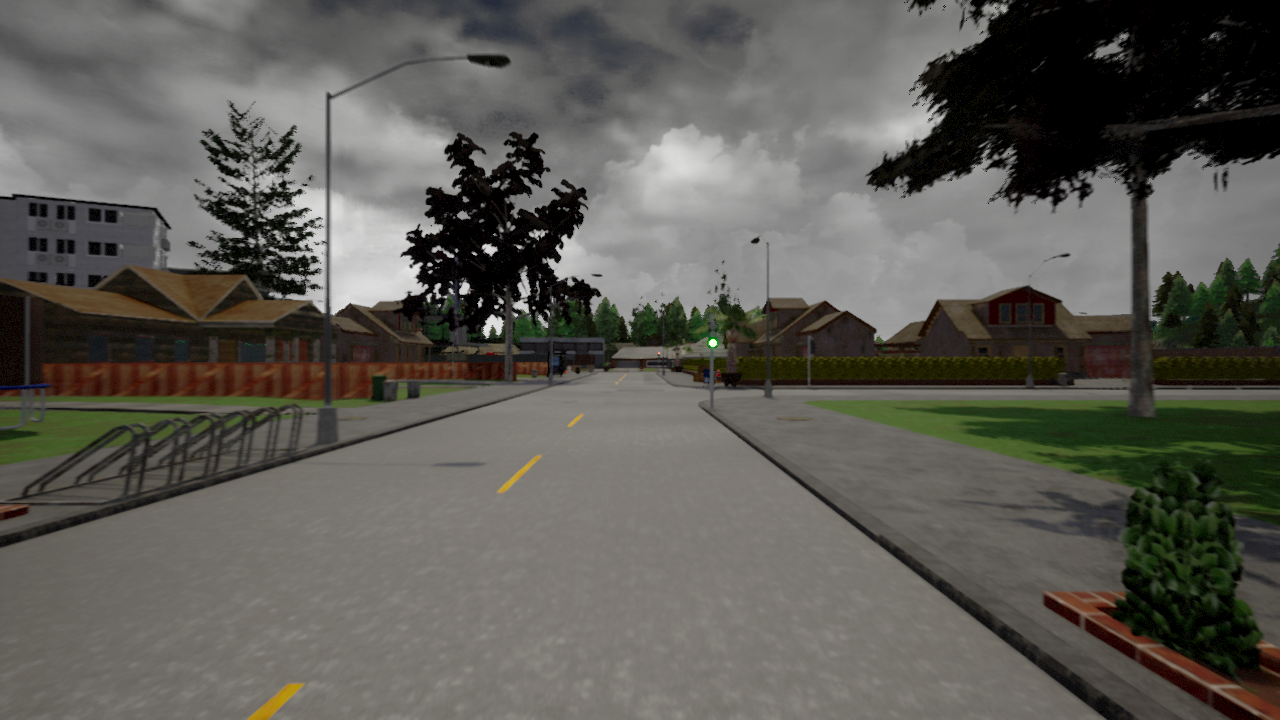green: (706, 320, 719, 349)
